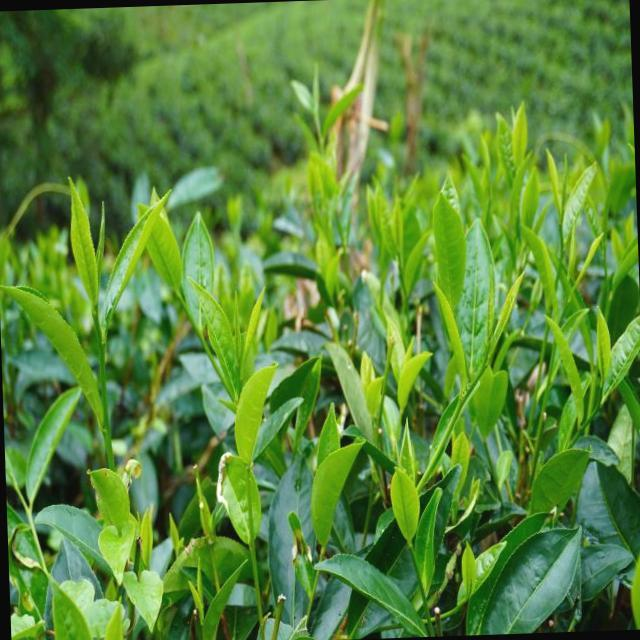Stem: (452, 401, 464, 417), (97, 343, 104, 369), (590, 405, 601, 418), (251, 550, 256, 574), (558, 254, 565, 271), (408, 547, 416, 560), (319, 137, 324, 151)
